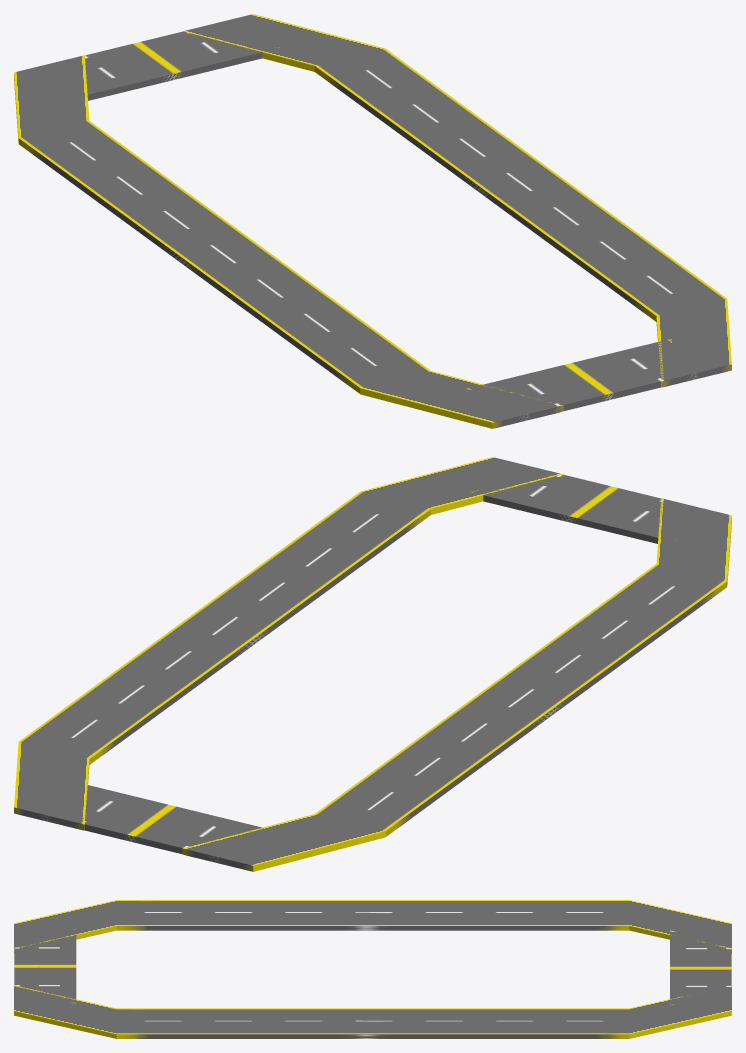
The model's file is Stage_Defult.fbx.
3 renders of one model, top to bottom at view 1: azimuth 30°, elevation 25°; view 2: azimuth 150°, elevation 25°; view 3: azimuth 270°, elevation 25°, orthographic. The views are drawn at different scales.
Visible parts, largest first — view 1: Box001, Box002, Box004, Box003; view 2: Box001, Box002, Box004, Box003; view 3: Box002, Box001, Box003, Box004.
Part boxes in pixels (<box>): Box001: <box>14,55,563,428</box>; Box002: <box>183,14,731,387</box>; Box004: <box>466,339,676,411</box>; Box003: <box>70,30,279,100</box>; Box001: <box>182,498,731,871</box>; Box002: <box>14,457,562,830</box>; Box004: <box>471,472,676,543</box>; Box003: <box>69,785,272,854</box>; Box002: <box>14,985,731,1038</box>; Box001: <box>14,900,731,953</box>; Box003: <box>670,930,731,1005</box>; Box004: <box>14,929,76,1003</box>.
Bounding box in the file's own units: 6196 × 14000 × 100.
